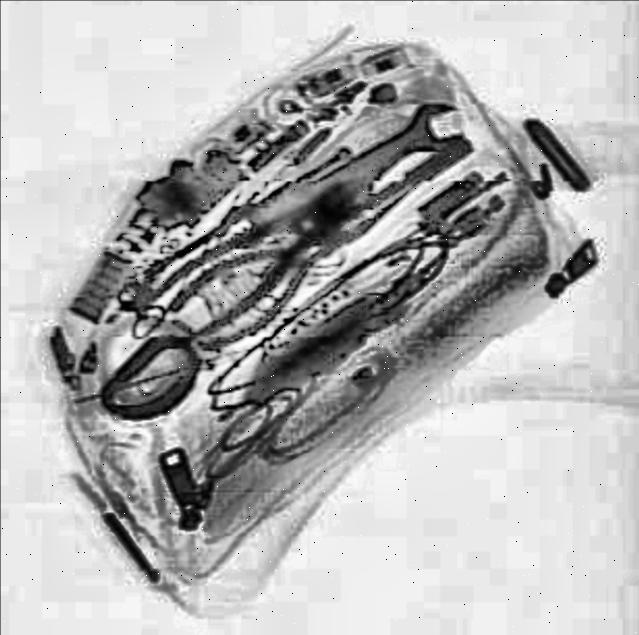Pliers: (162, 157, 446, 365), (162, 174, 404, 348)
Wrench: (213, 96, 478, 264)
